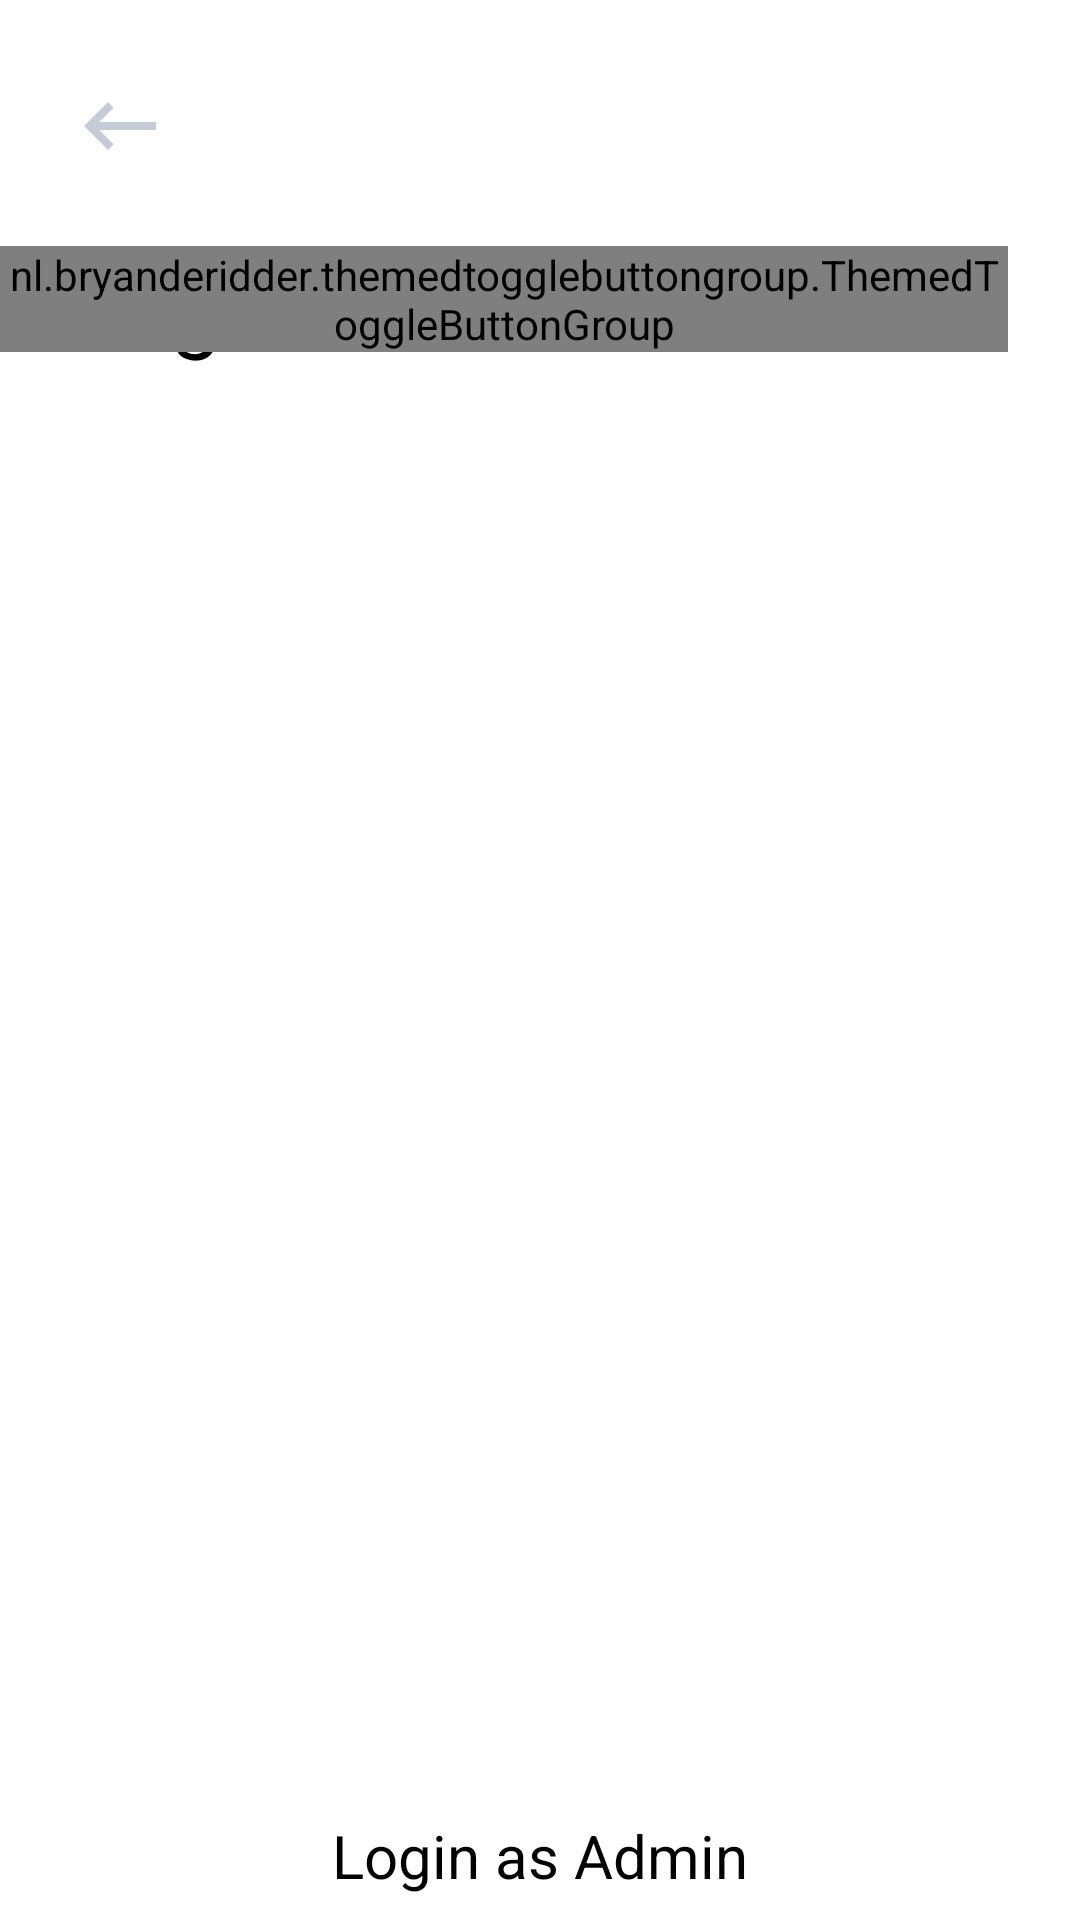

Locate icon controls on the screen. Image size 1080x1920, boxes as (x1, y1, x2, y2).
keyboard backspace: (84, 102, 156, 150)
